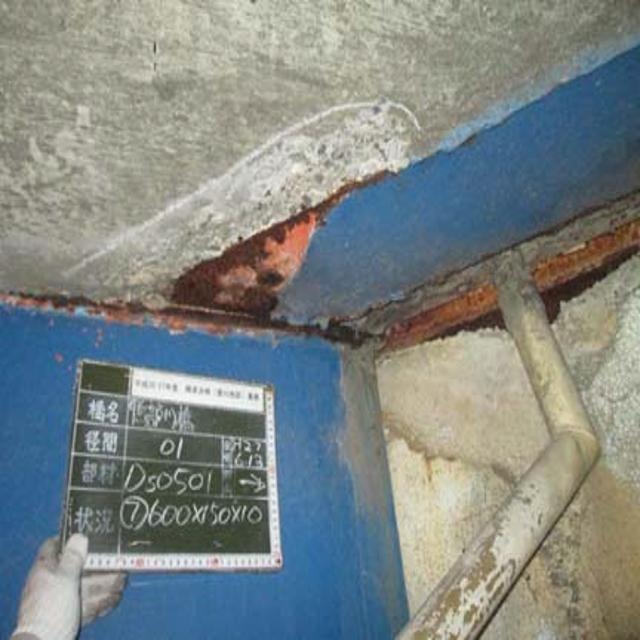corrosion: (156, 182, 601, 347)
